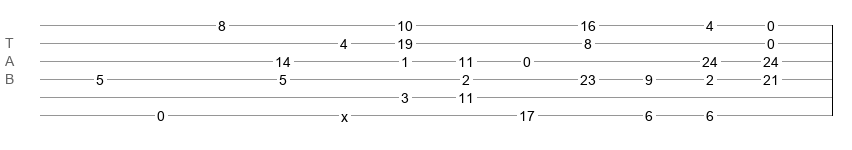0: (157, 108, 165, 118), (523, 54, 531, 64), (767, 36, 775, 46), (767, 18, 775, 28)
1: (401, 54, 409, 64)
10: (397, 18, 413, 28)
11: (458, 90, 474, 100), (458, 54, 474, 64)
14: (275, 54, 291, 64)
16: (580, 18, 596, 28)
17: (519, 108, 535, 118)
19: (397, 36, 413, 46)
2: (462, 72, 470, 82), (706, 72, 714, 82)
21: (763, 72, 779, 82)
23: (580, 72, 596, 82)
24: (702, 54, 718, 64), (763, 54, 779, 64)
3: (401, 90, 409, 100)
4: (340, 36, 348, 46), (706, 18, 714, 28)
5: (96, 72, 104, 82), (279, 72, 287, 82)
6: (645, 108, 653, 118), (706, 108, 714, 118)
8: (218, 18, 226, 28), (584, 36, 592, 46)
9: (645, 72, 653, 82)
x: (341, 109, 348, 117)
